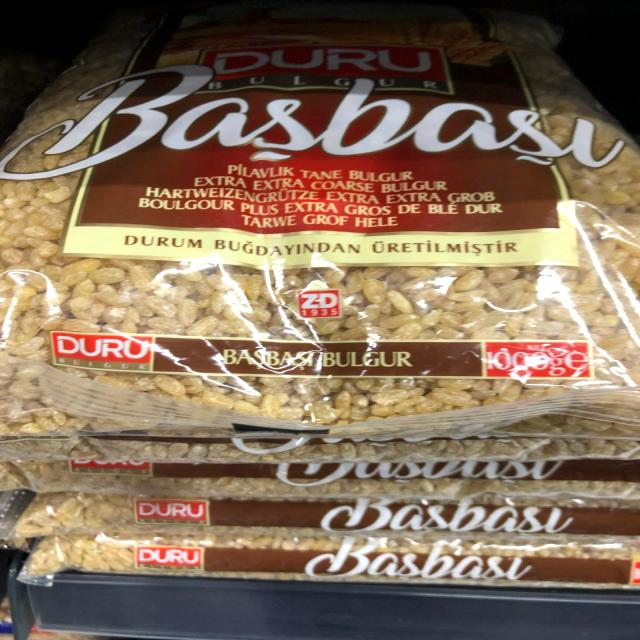bulgur: (9, 8, 640, 443)
